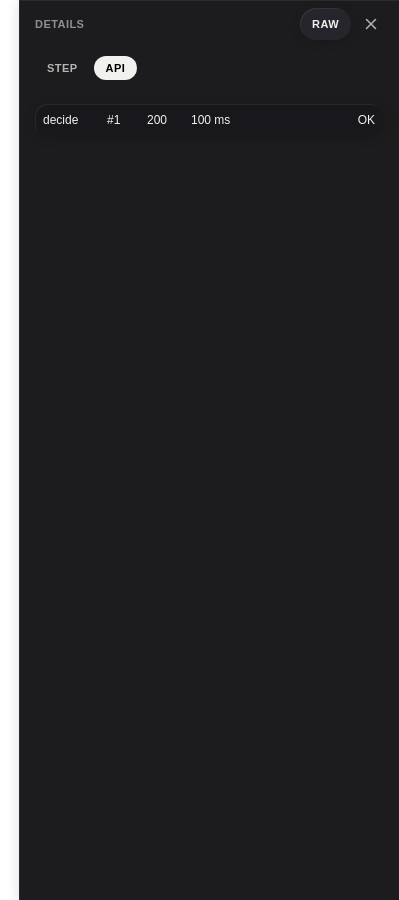
Test: FlightDrawer › says when a body was cut
This screenshot has width=399, height=900.
What coordinates should you click on to do the following:
click the button with test id "call"
I would click on:
 (209, 120)
Its box is [35,104,383,136].
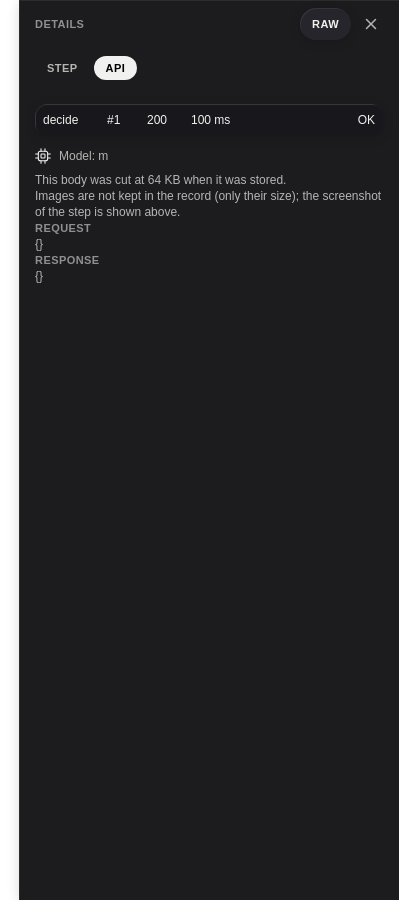
Check: the text "This body was cut at 64 KB when it was stored." is shown, box [35,173,286,187]
